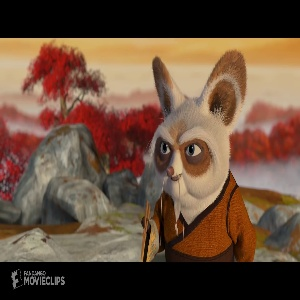shifu: (130, 48, 259, 262)
